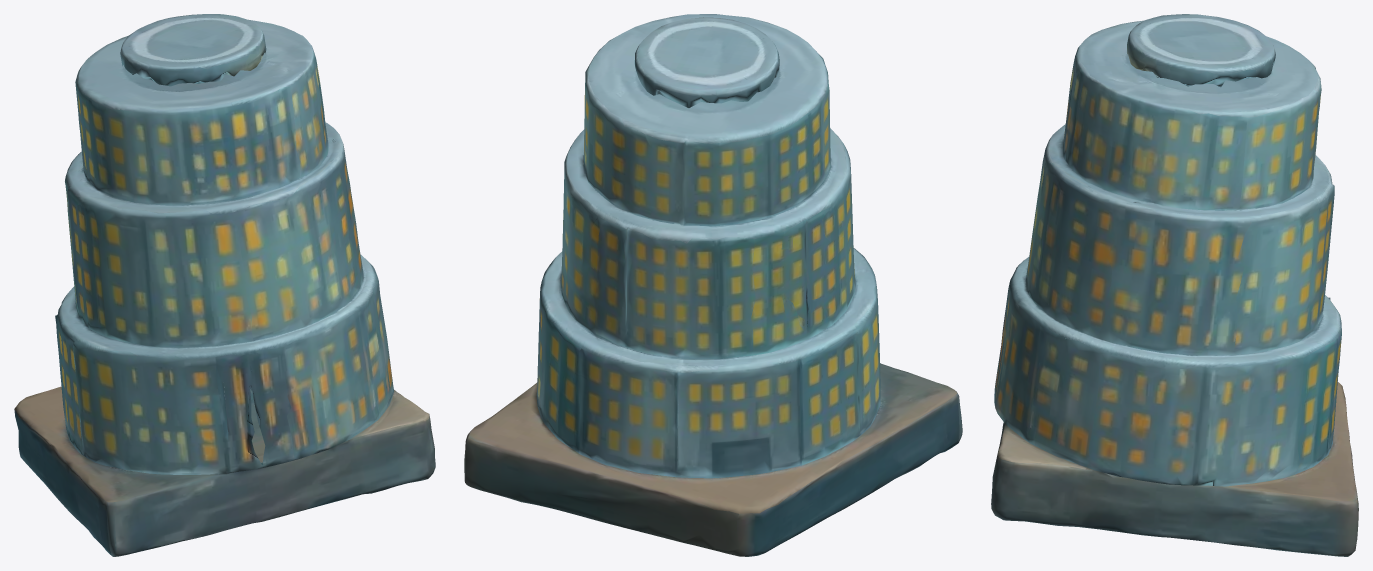
File: tower-c.glb
3 views of the same model, side by side, from view 1: azimuth 30°, elevation 25°; view 2: azimuth 150°, elevation 25°; view 3: azimuth 270°, elevation 25° (orthographic). The views are drawn at different scales.
Parts seen in each view (by area): view 1: geometry_0; view 2: geometry_0; view 3: geometry_0.
Boxes of the visible parts, x1,y1,x2,y2 form: geometry_0: [14, 14, 435, 556]; geometry_0: [464, 14, 962, 556]; geometry_0: [991, 14, 1358, 556].
Size of the model in its own units: 0.6398 by 0.7907 by 0.5838.
Materials: 1 (1 with a texture image).
